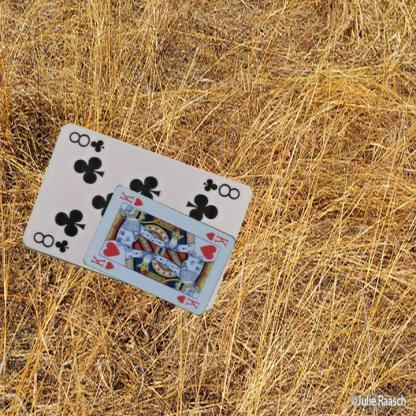8c: (199, 176, 242, 202), (30, 228, 71, 255)
Kh: (88, 252, 116, 271), (203, 230, 230, 248)
